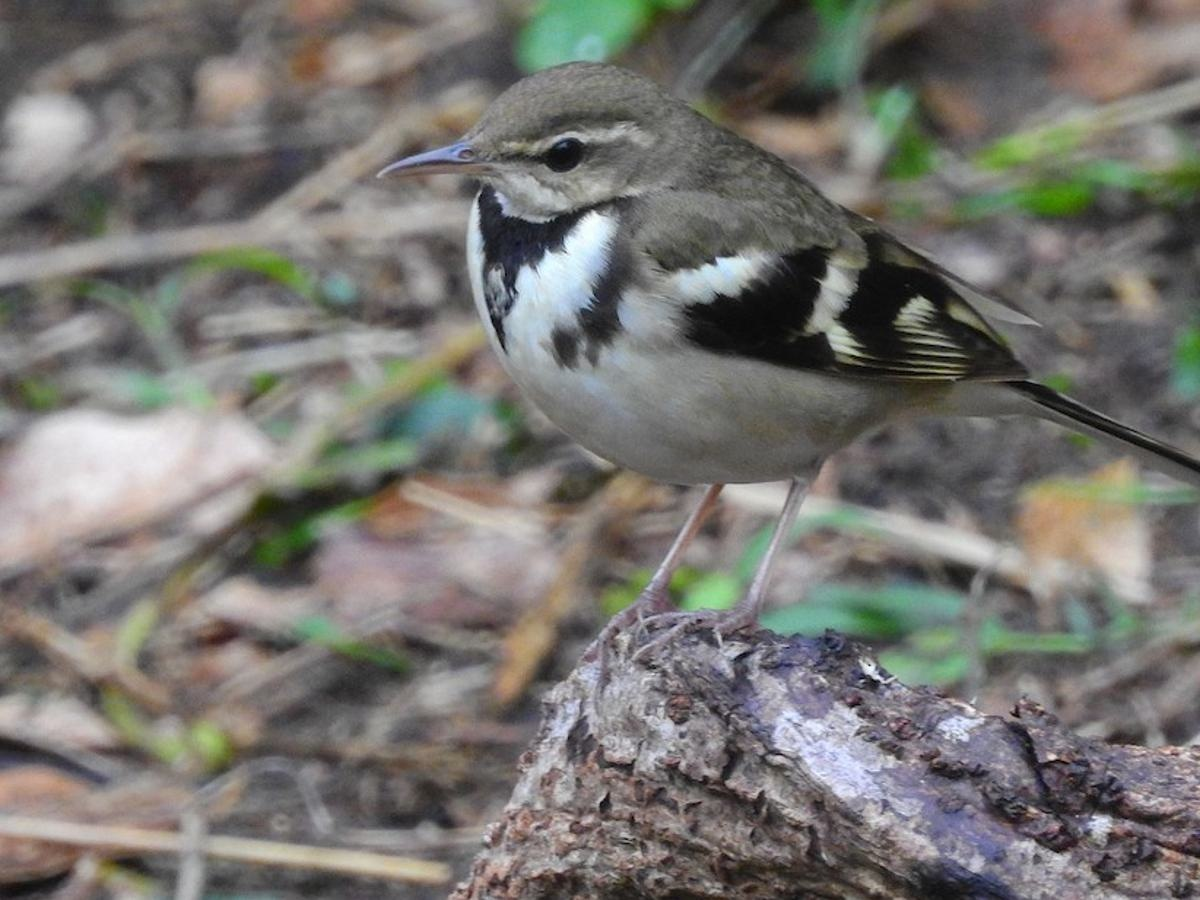wagtail: (390, 32, 1055, 643)
